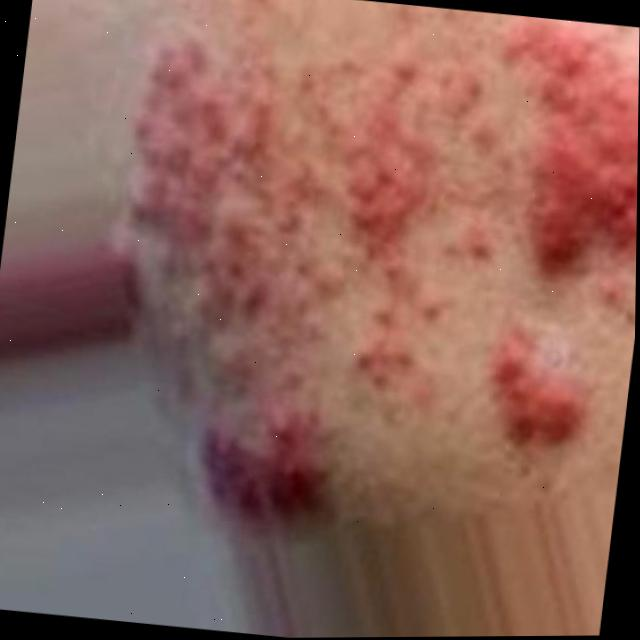Shingles: (88, 0, 640, 557)
